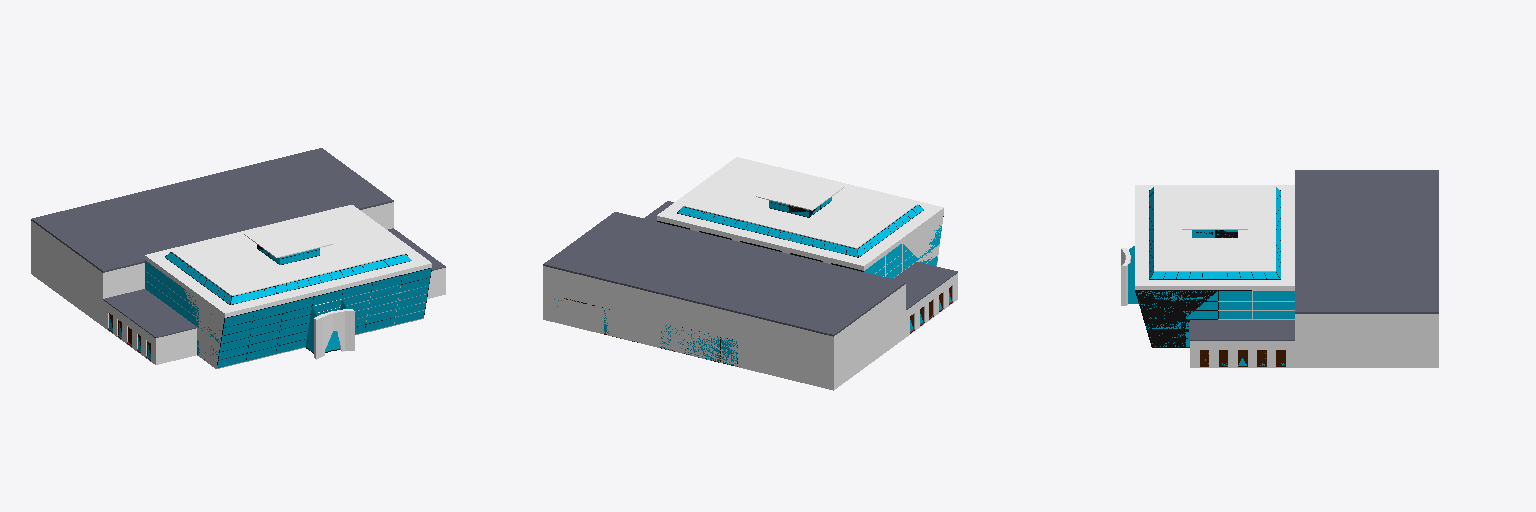
3 renders of one model, left to right at view 1: azimuth 30°, elevation 25°; view 2: azimuth 150°, elevation 25°; view 3: azimuth 270°, elevation 25°, orthographic.
Parts seen in each view (by area): view 1: Mesh167 Model; view 2: Mesh167 Model; view 3: Mesh167 Model.
Boxes of the visible parts, box(x1,y1,x2,y2) form: Mesh167 Model: box(31, 148, 445, 368); Mesh167 Model: box(543, 157, 957, 390); Mesh167 Model: box(1121, 170, 1438, 367).
Size of the model in its own units: 35 by 9.47 by 33.18.
Materials: 16 (2 with a texture image).